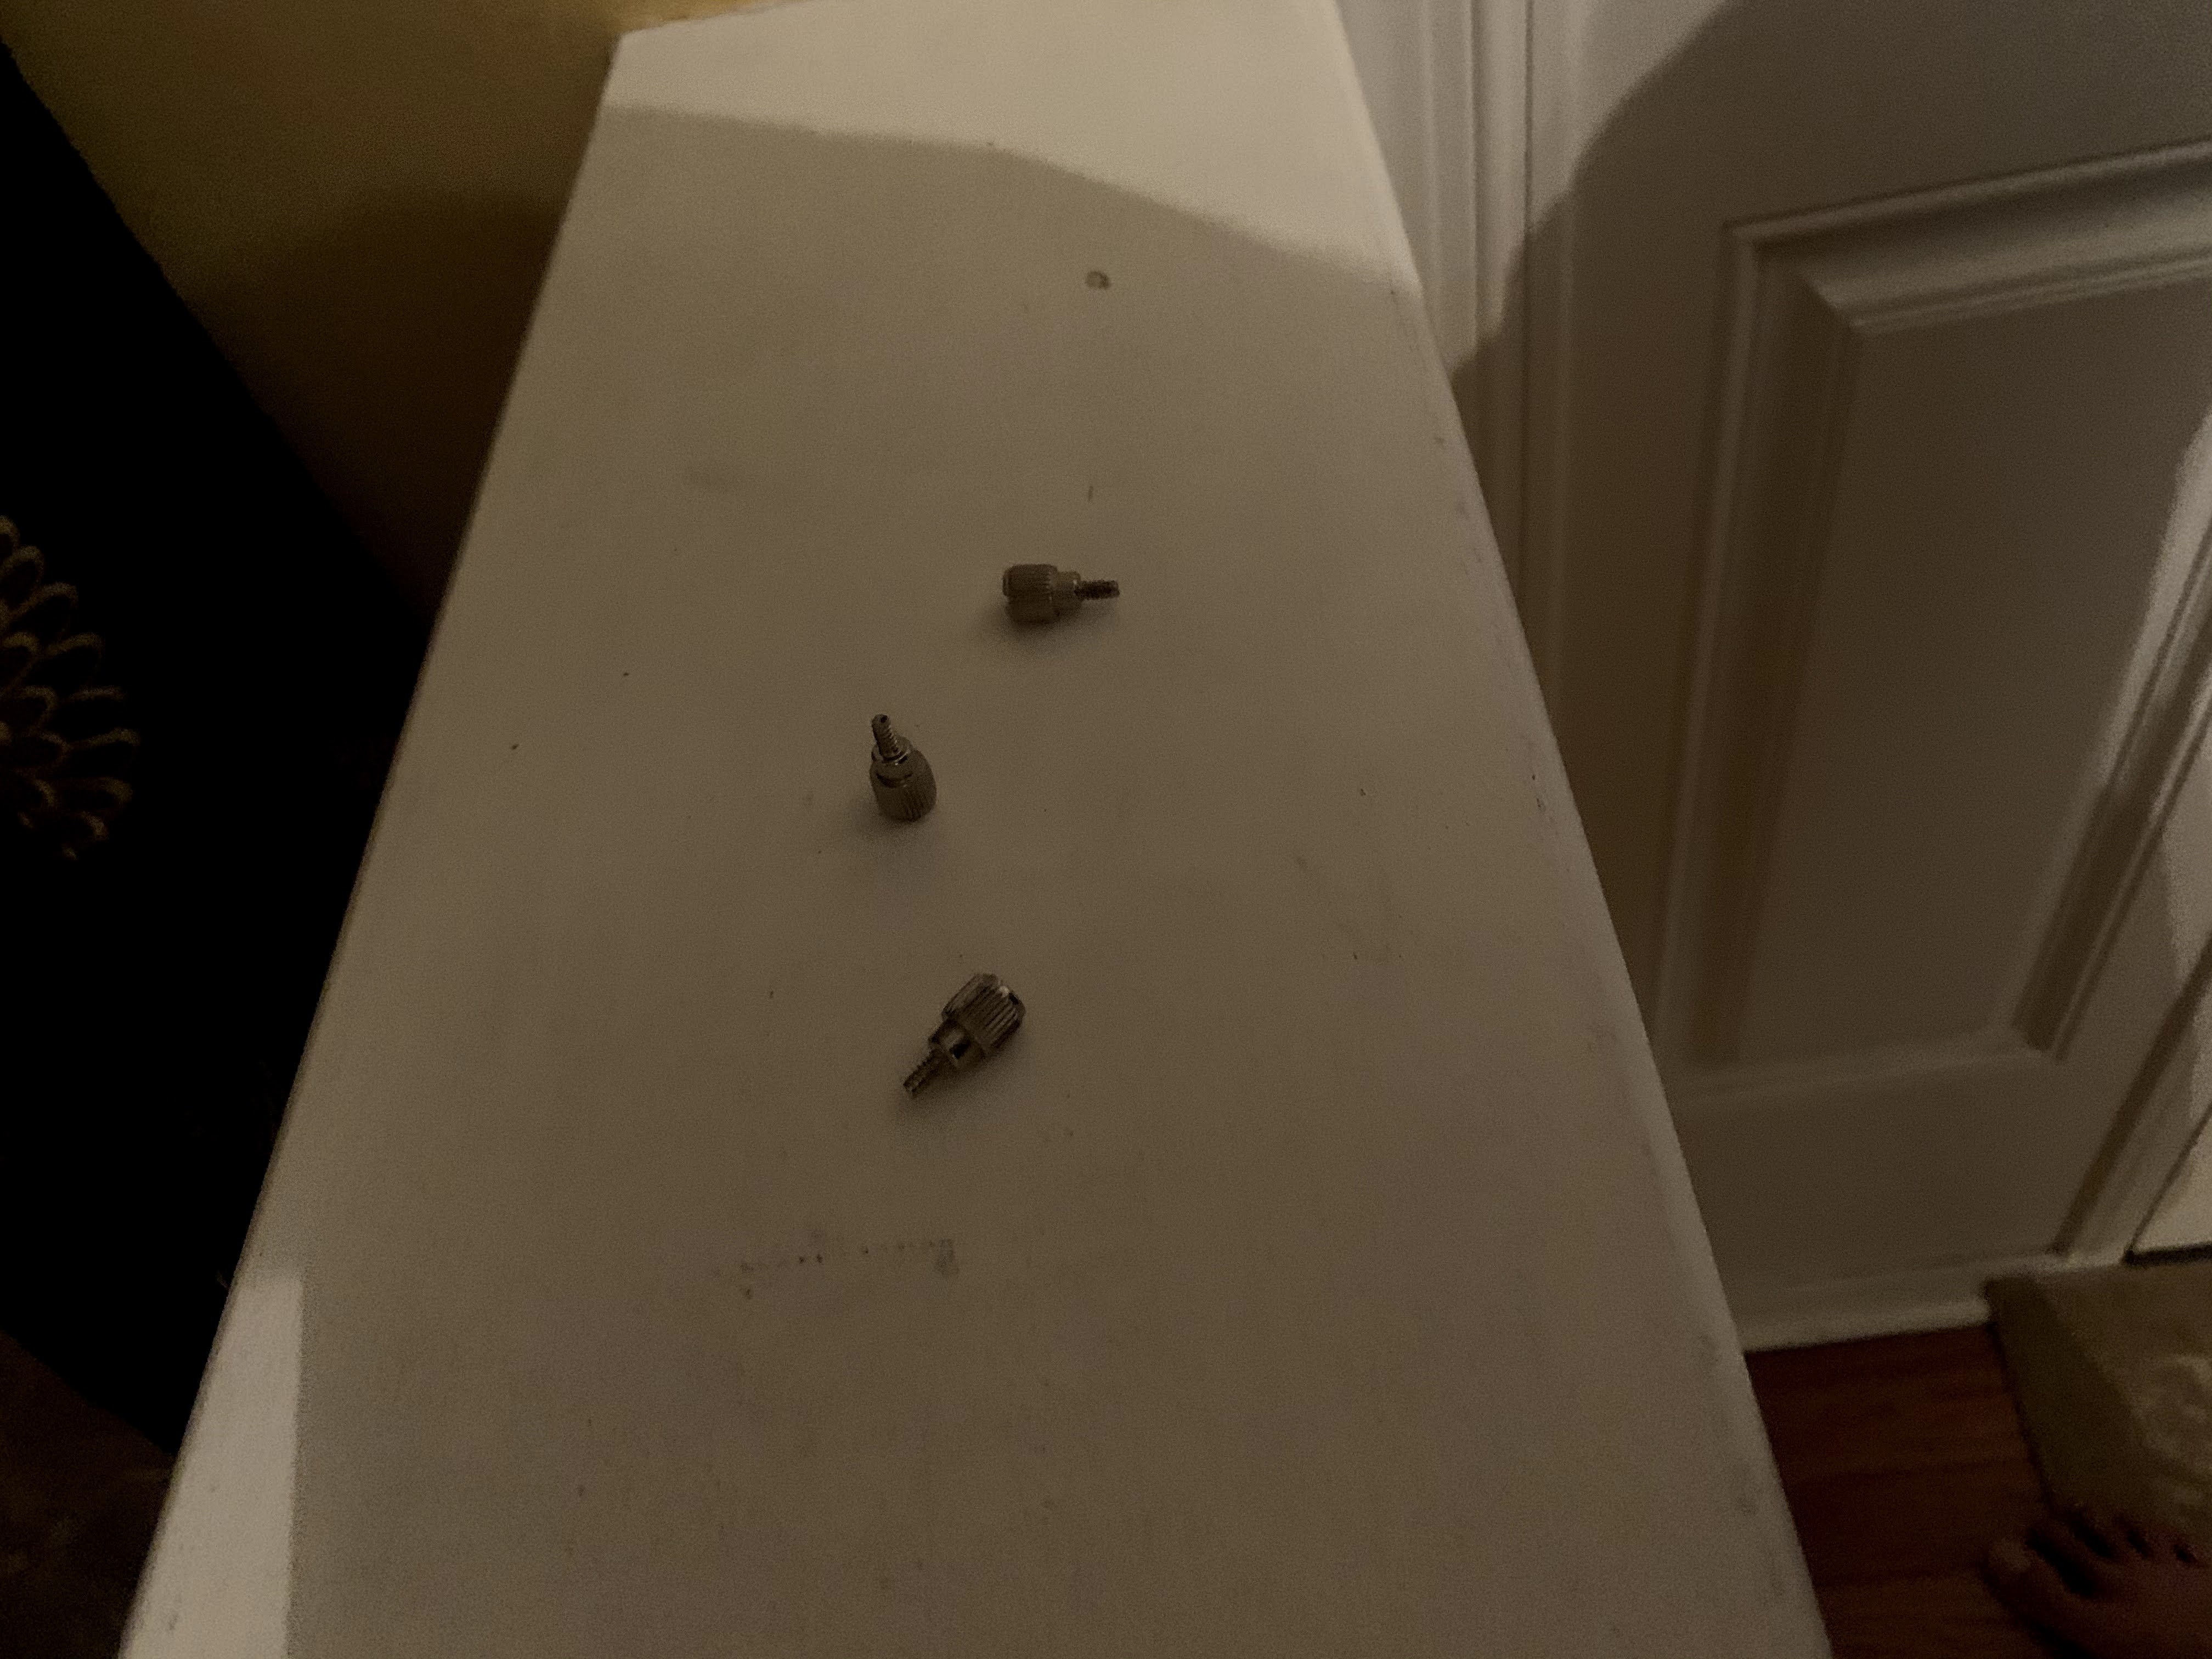Space-debris-small: (887, 951, 1042, 1103), (998, 554, 1125, 636), (855, 706, 944, 821)
